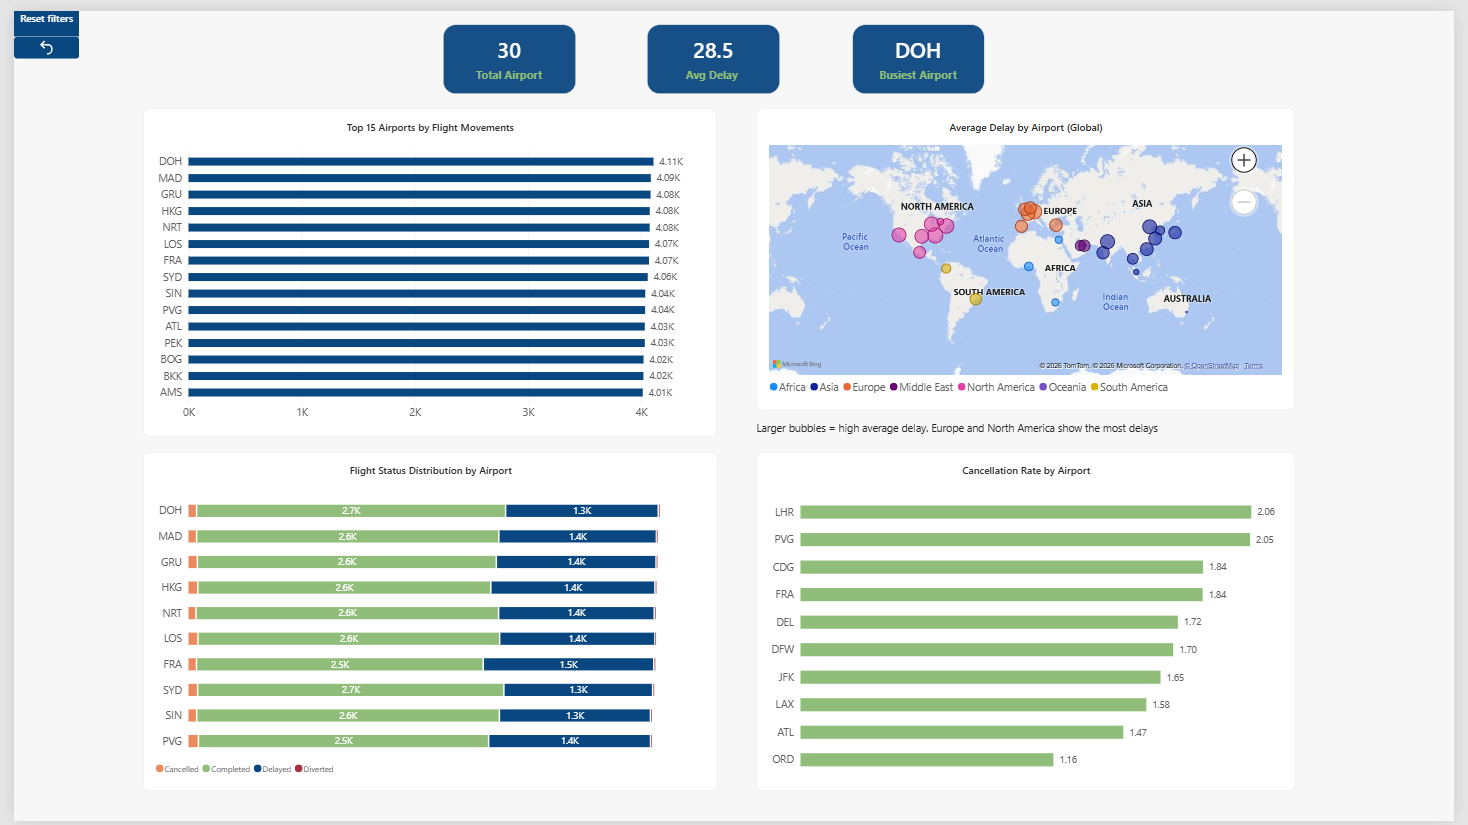

This screenshot's page, from the dashboard's own definition file:
{"tool":"powerbi","page":{"name":"Airport Performance","canvas":[1920,1080],"ordinal":4},"visuals":[{"type":"barChart","title":"Top 15 Airports by Flight Movements","fields":{"Category":["airports.iata_code"],"Y":["Measure Table.Total Movements"]},"box":[171.2,130,765,437.5],"z":0},{"type":"map","title":"Average Delay by Airport (Global)","fields":{"Series":["airports.region"],"Size":["Measure Table.Avg Delay (Origin+Dest)"],"X":["airports.lon"],"Y":["airports.lat"]},"box":[990,130,717.5,402.5],"z":1000},{"type":"barChart","title":"Flight Status Distribution by Airport","fields":{"Category":["airports.iata_code"],"Series":["flights.status"],"Y":["Measure Table.Total Movements"]},"box":[172,588,766,452],"z":2000},{"type":"barChart","title":"Cancellation Rate by Airport","fields":{"Category":["airports.iata_code"],"Y":["Measure Table.Cancelation_Rate_Pct"]},"box":[990,588,718,452],"z":3000},{"type":"textbox","box":[990,546.5,717.5,27.5],"z":4000},{"type":"card","fields":{"Values":["CountNonNull(airports.airport_id)"]},"box":[572.9,17.1,177.1,92.9],"z":5000},{"type":"card","fields":{"Values":["Min(airports.iata_code)"]},"box":[1117.1,17.1,175.7,92.9],"z":6000},{"type":"card","fields":{"Values":["Measure Table.Avg Delay (Origin+Dest)"]},"box":[844.8,17.1,177.5,92.5],"z":7000},{"type":"shape","box":[0,0,178.6,1080],"z":8000},{"type":"actionButton","title":"Reset filters","box":[2,0,175,65],"z":9000},{"type":"pageNavigator","box":[10,860,158,200],"z":10000}]}

Visuals, with their boxes in screenshot pixels (x1, y1, x2, y2), scaled from the page's 1920x1080 canvas onto the 1468x825 screenshot:
"Top 15 Airports by Flight Movements" barChart: {"x1": 131, "y1": 99, "x2": 716, "y2": 434}
"Average Delay by Airport (Global)" map: {"x1": 757, "y1": 99, "x2": 1306, "y2": 407}
"Flight Status Distribution by Airport" barChart: {"x1": 132, "y1": 449, "x2": 717, "y2": 794}
"Cancellation Rate by Airport" barChart: {"x1": 757, "y1": 449, "x2": 1306, "y2": 794}
textbox: {"x1": 757, "y1": 417, "x2": 1306, "y2": 438}
card - CountNonNull(airports.airport_id): {"x1": 438, "y1": 13, "x2": 573, "y2": 84}
card - Min(airports.iata_code): {"x1": 854, "y1": 13, "x2": 988, "y2": 84}
card - Measure Table.Avg Delay (Origin+Dest): {"x1": 646, "y1": 13, "x2": 782, "y2": 84}
shape: {"x1": 0, "y1": 0, "x2": 137, "y2": 824}
"Reset filters" actionButton: {"x1": 2, "y1": 0, "x2": 135, "y2": 50}
pageNavigator: {"x1": 8, "y1": 657, "x2": 128, "y2": 810}
